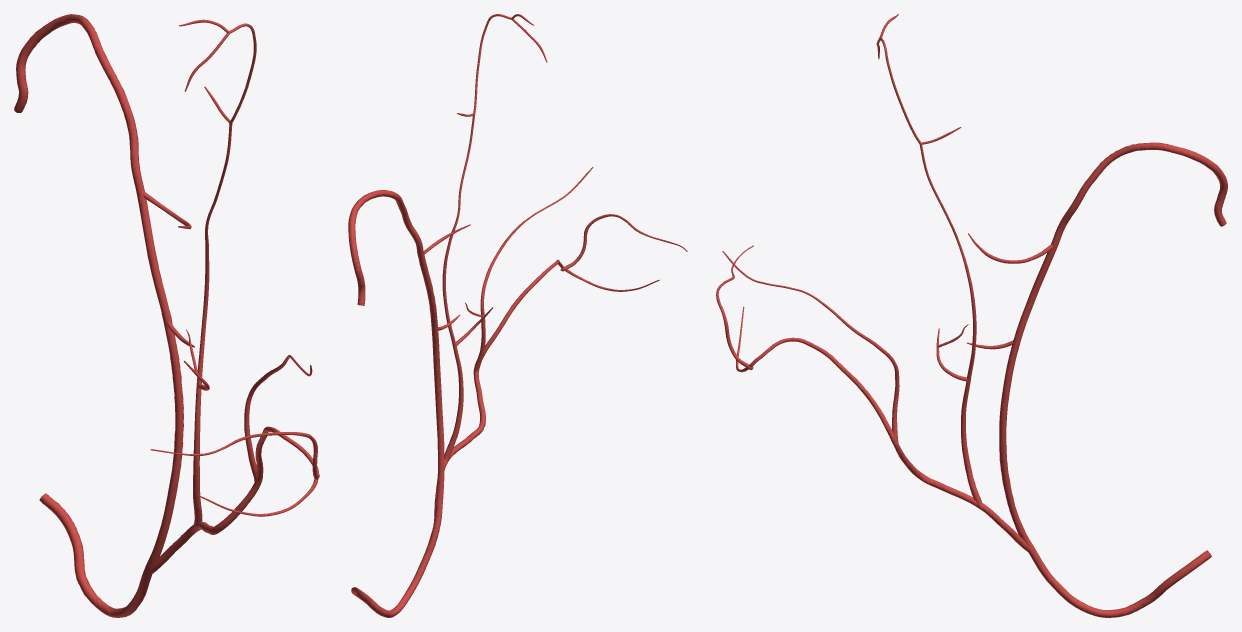
3 views of the same model, side by side, from view 1: azimuth 30°, elevation 25°; view 2: azimuth 150°, elevation 25°; view 3: azimuth 270°, elevation 25° (orthographic). The views are drawn at different scales.
Visible parts, largest first — view 1: 右侧胼周动脉; view 2: 右侧胼周动脉; view 3: 右侧胼周动脉.
Boxes of the visible parts, x1,y1,x2,y2 form: 右侧胼周动脉: (14, 14, 319, 617); 右侧胼周动脉: (348, 14, 687, 617); 右侧胼周动脉: (716, 14, 1227, 617).
Size of the model in its own units: 0.046 by 0.1568 by 0.1244.
